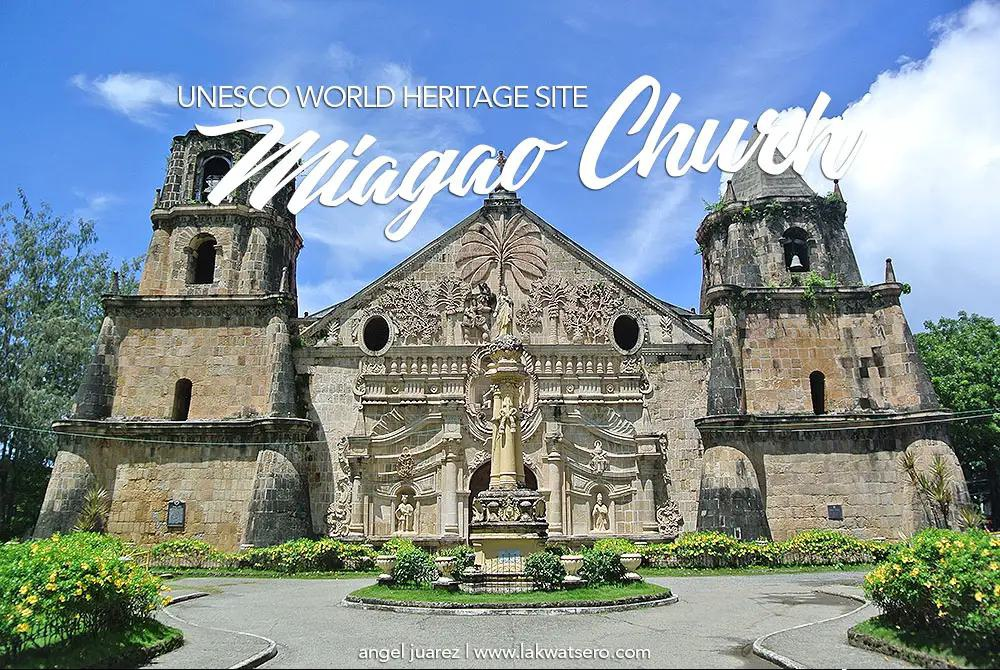miagao_church_miagao_iloilo: (47, 92, 978, 555)
